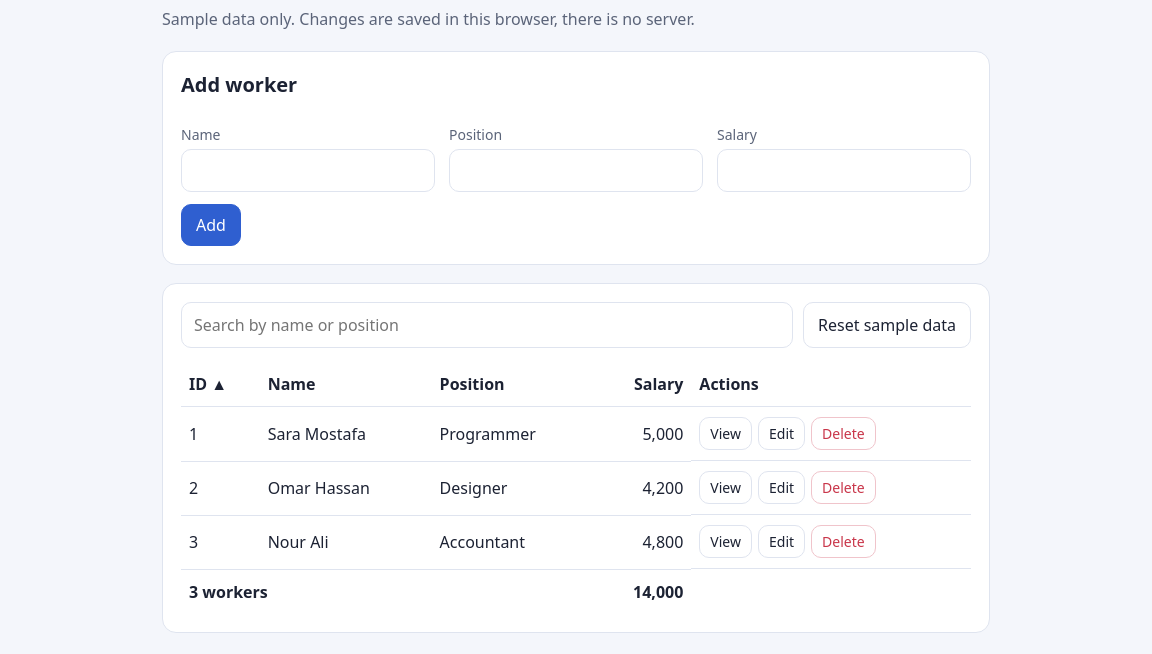
Test case: App › sorts by salary and views details
Click the button "Salary" at (659, 384), box [634, 372, 683, 396]
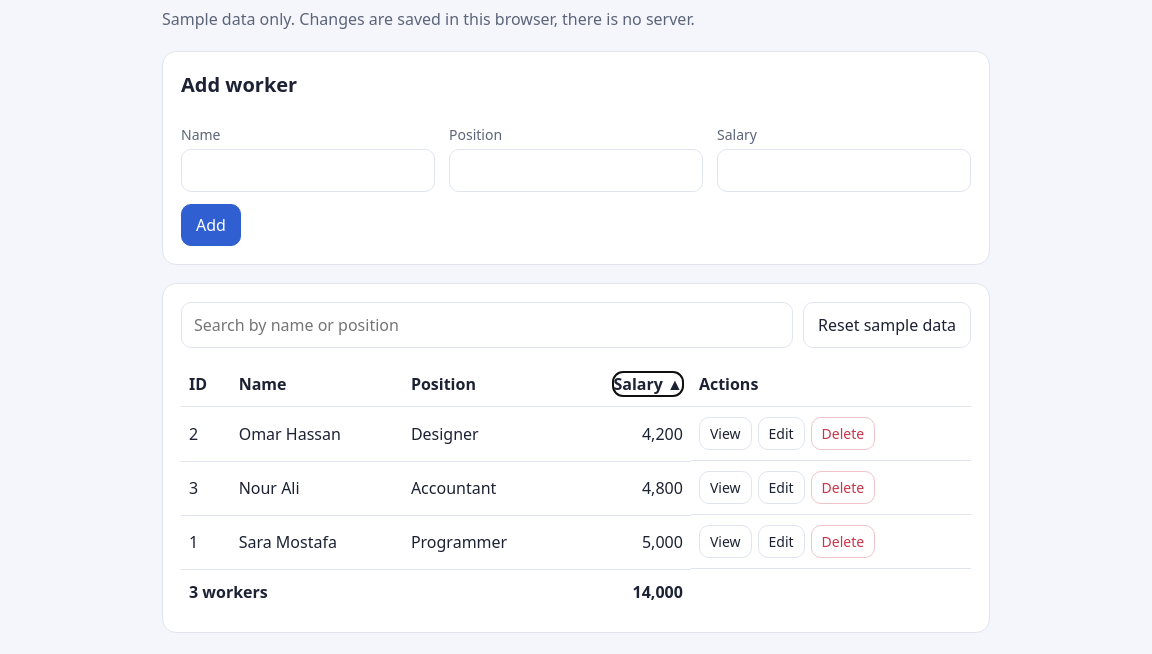
Expected: the text "Omar Hassan" is shown, [231, 406, 403, 461]
Click the button with aria-label "View Sara Mostafa" at (725, 542), box [699, 525, 752, 558]
(page scrolled)
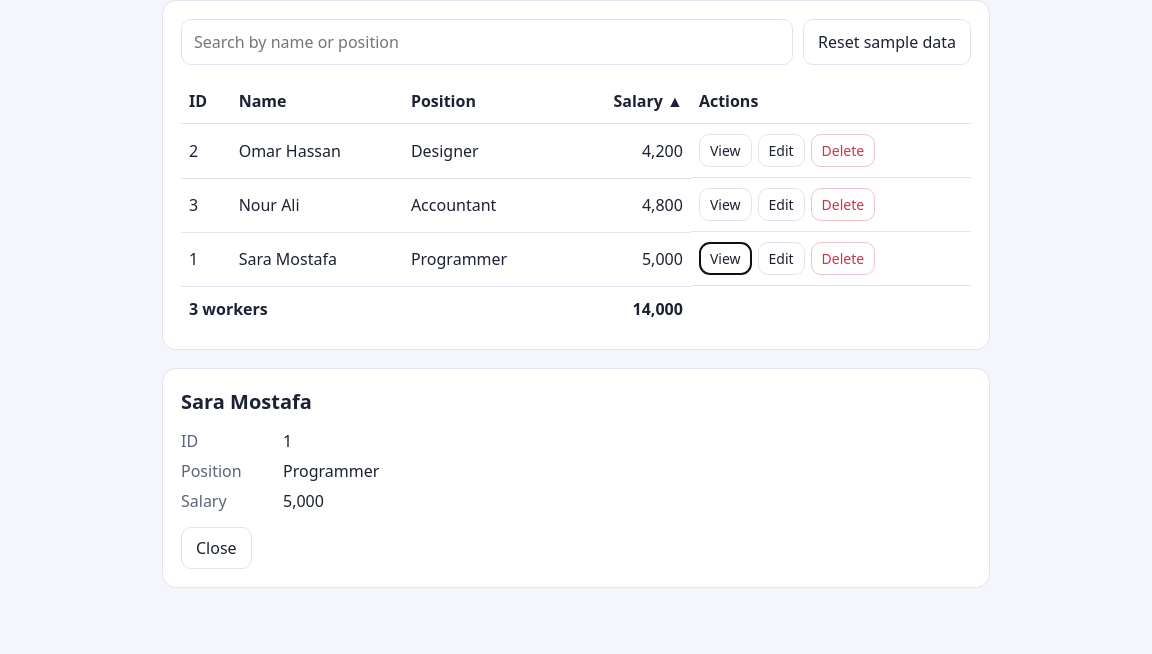
Expected: the element named "Worker details" shows "Programmer", [283, 460, 379, 482]
